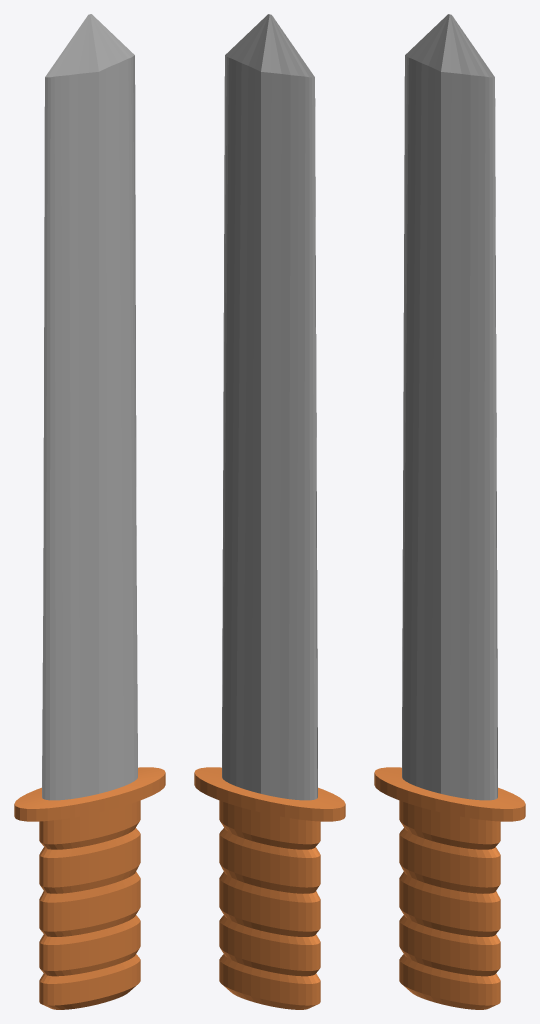
The model's file is Sword.fbx.
The picture shows the model from 3 angles, left to right: view 1: azimuth 30°, elevation 25°; view 2: azimuth 150°, elevation 25°; view 3: azimuth 330°, elevation 25°; orthographic projection.
Visible parts, largest first — view 1: Cylinder; view 2: Cylinder; view 3: Cylinder.
Part boxes in pixels (bbox=[...]): Cylinder: bbox=[14, 14, 165, 1009]; Cylinder: bbox=[194, 14, 345, 1009]; Cylinder: bbox=[374, 14, 525, 1009].
Bounding box in the file's own units: 50.39 × 319 × 16.86.
